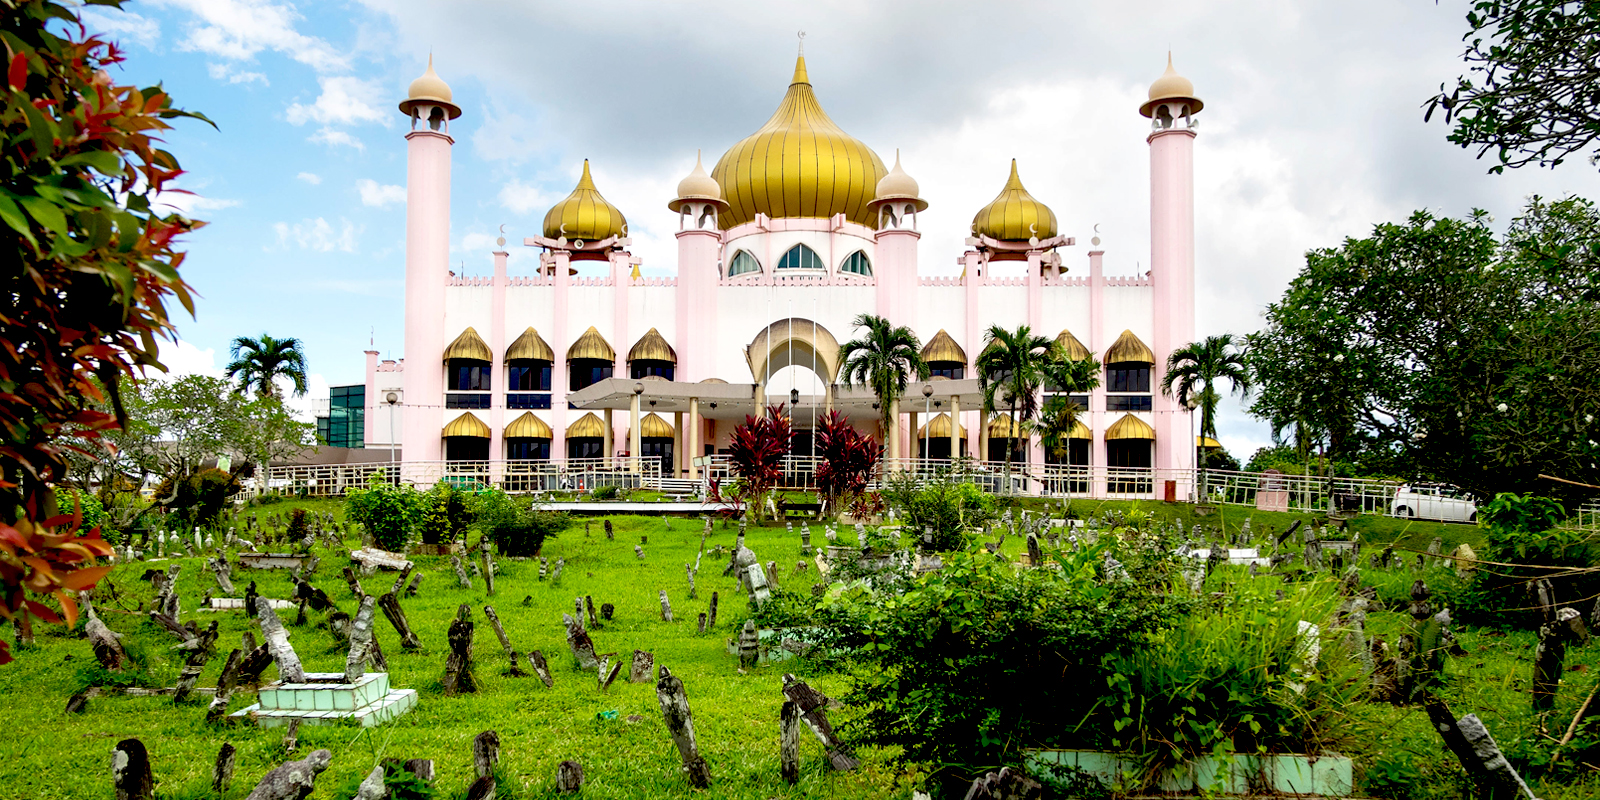Mosque: (350, 43, 1214, 506)
